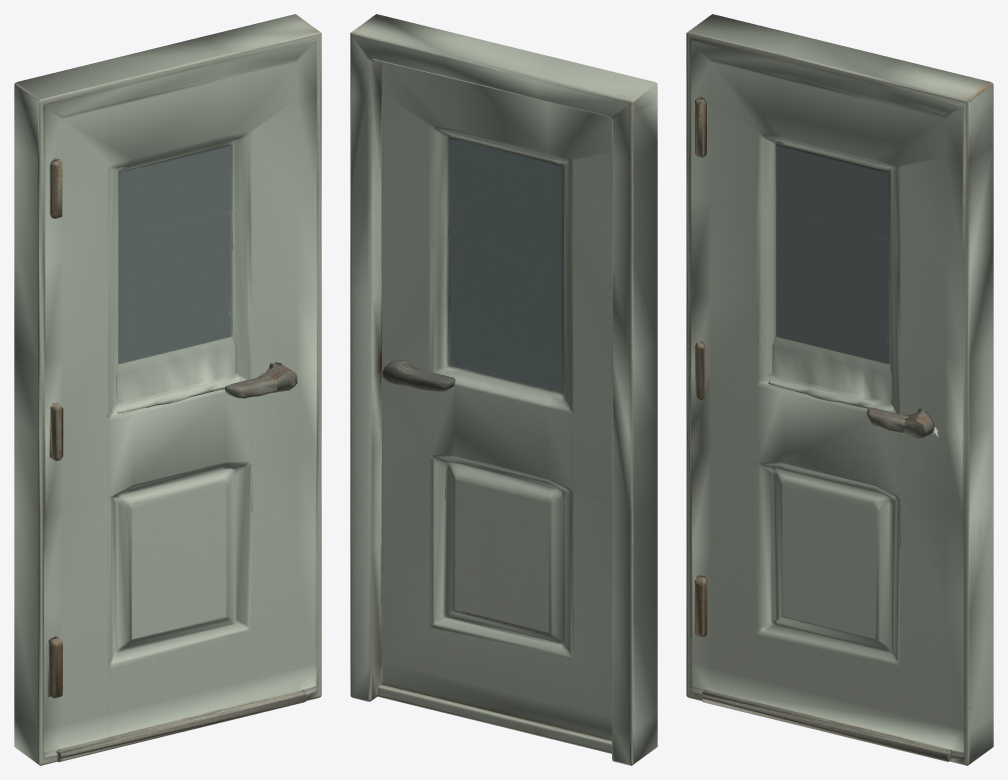
The model's file is Door_Ward.fbx.
3 views of the same model, side by side, from view 1: azimuth 30°, elevation 25°; view 2: azimuth 150°, elevation 25°; view 3: azimuth 330°, elevation 25° (orthographic).
Visible parts, largest first — view 1: mesh_node; view 2: mesh_node; view 3: mesh_node.
Boxes of the visible parts, box(x1,y1,x2,y2) form: mesh_node: box(14, 14, 321, 765); mesh_node: box(350, 14, 657, 765); mesh_node: box(686, 14, 993, 765).
Size of the model in its own units: 84.93 by 191 by 18.79.
Materials: 1 (1 with a texture image).
